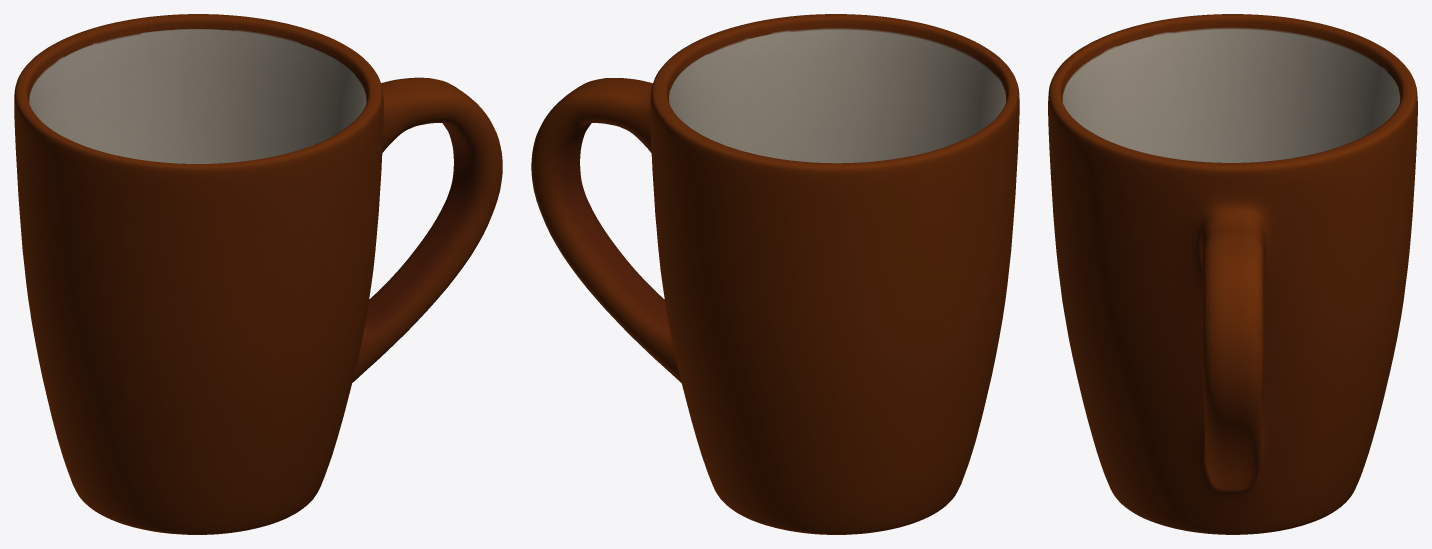
Rendered from drinkware-mug.glb.
The picture shows the model from 3 angles, left to right: view 1: azimuth 30°, elevation 25°; view 2: azimuth 150°, elevation 25°; view 3: azimuth 270°, elevation 25°; orthographic projection.
Parts seen in each view (by area): view 1: Mug_0; view 2: Mug_0; view 3: Mug_0.
Boxes of the visible parts, x1,y1,x2,y2 form: Mug_0: (14,14,502,534); Mug_0: (531,14,1019,534); Mug_0: (1048,14,1417,534).
Size of the model in its own units: 0.1191 by 0.0988 by 0.0837.
Materials: 1 (1 with a texture image).
